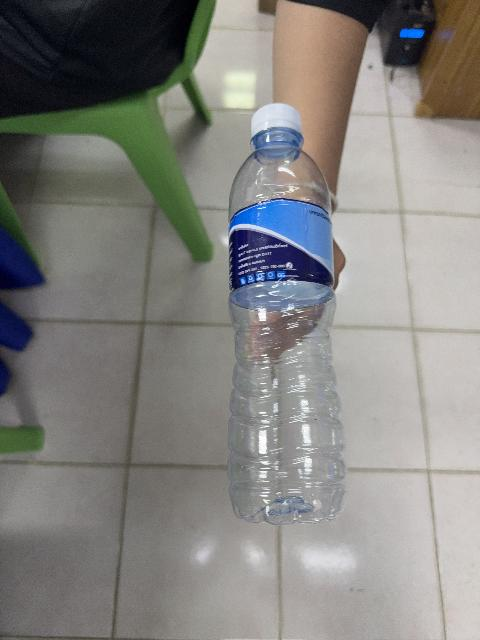bottle: (228, 104, 345, 524)
